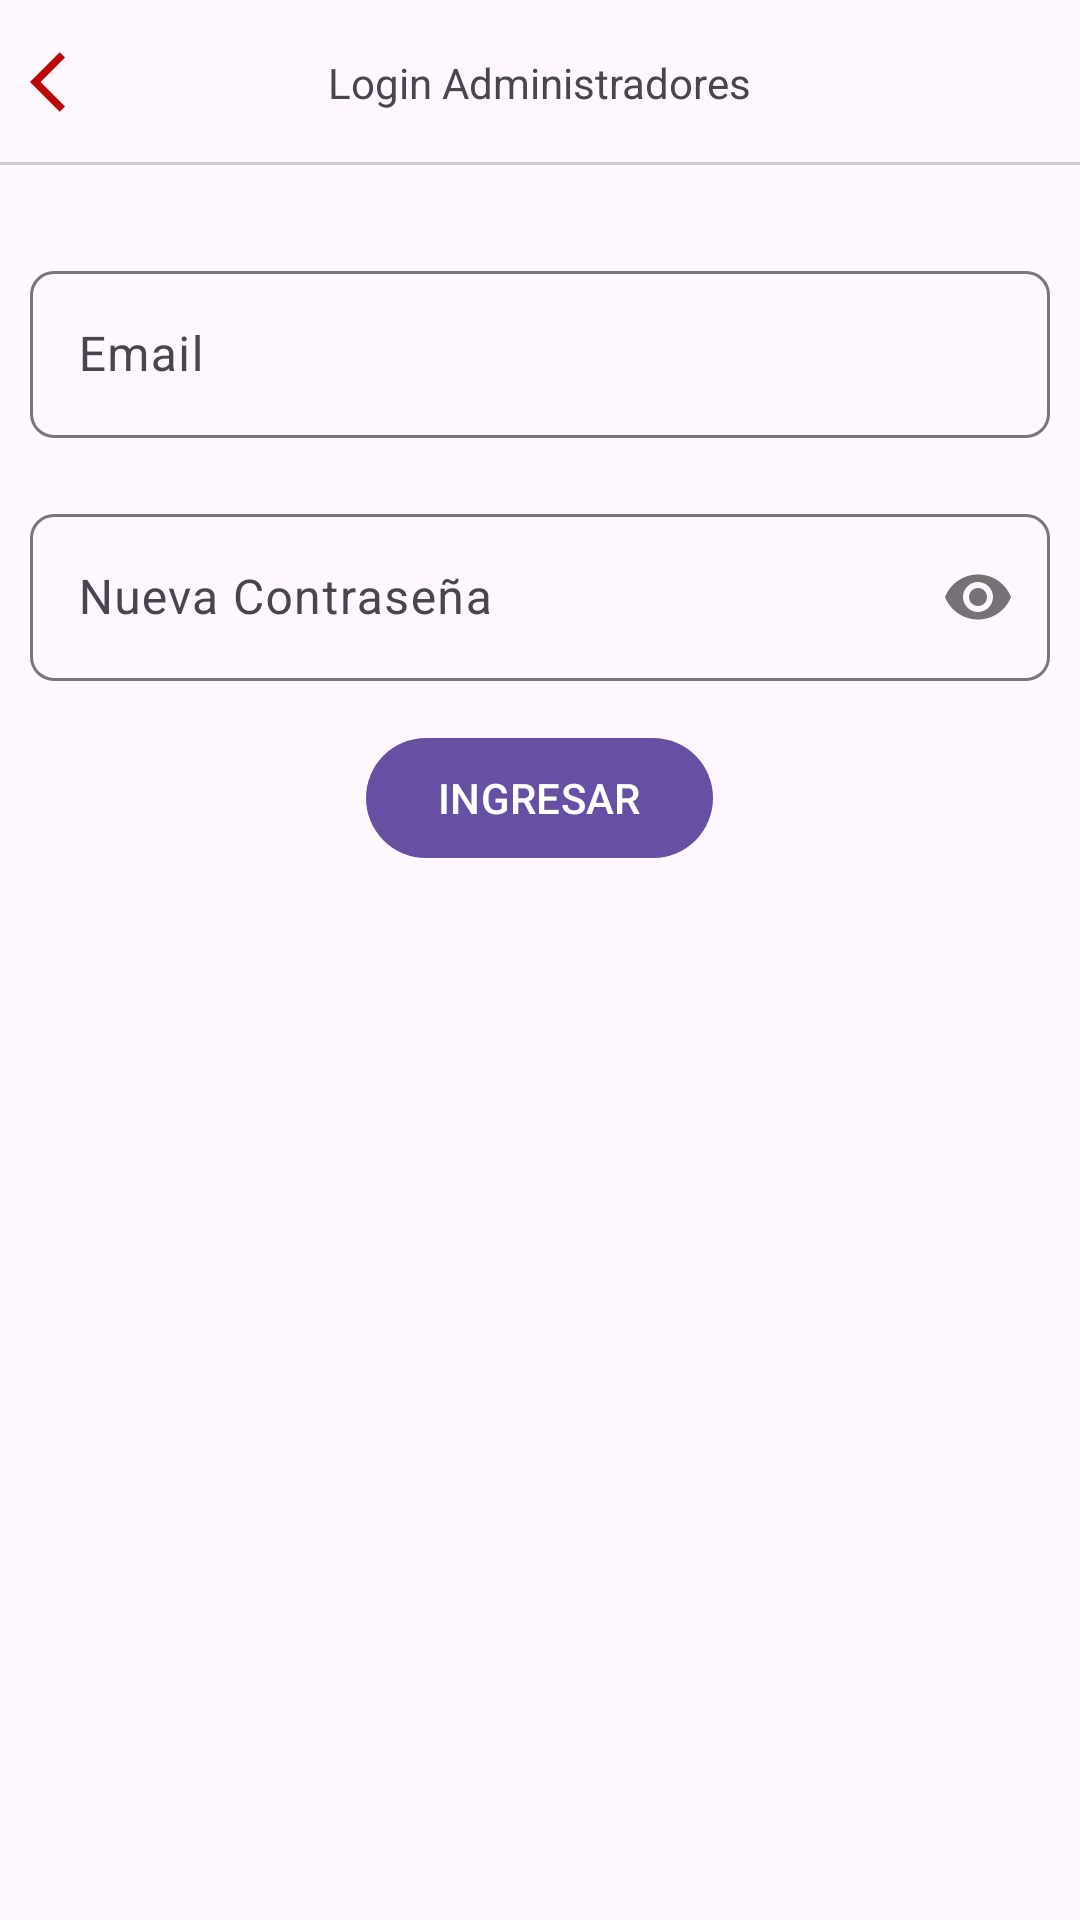

Screen size 1080 × 1920. Icon name, then its box in pixels as (x1, y1, x2, y2):
regresar: (30, 52, 65, 112)
